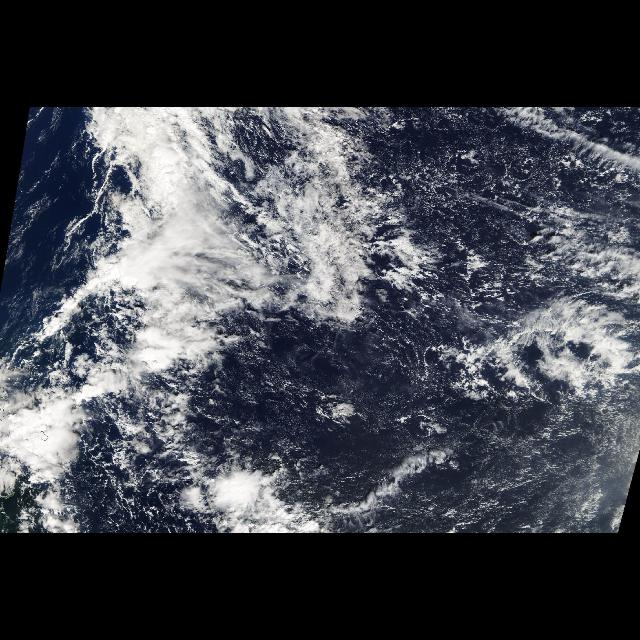Fish: (386, 290, 640, 440)
Gravel: (365, 125, 621, 273)
Sugar: (233, 328, 413, 479)
